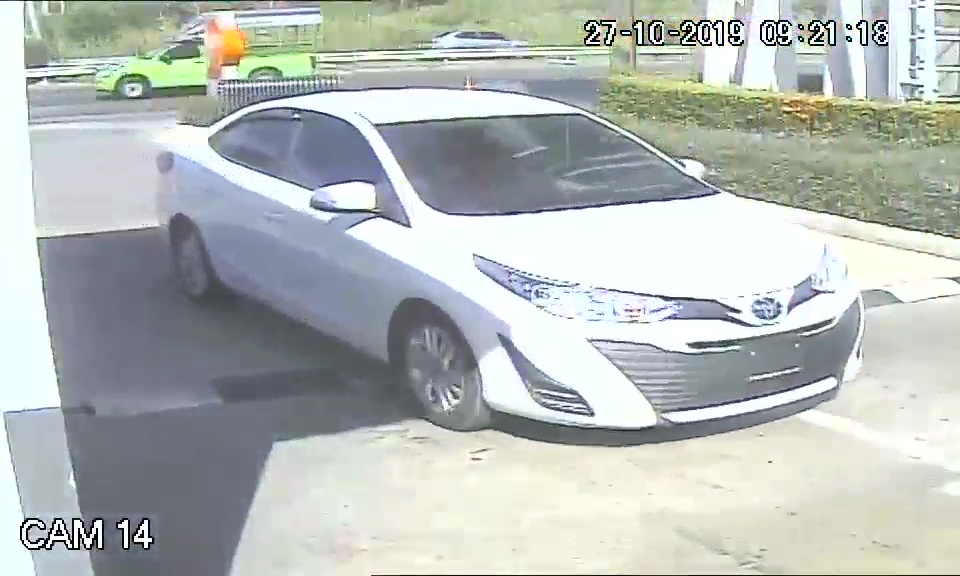sedan: (150, 87, 871, 437)
